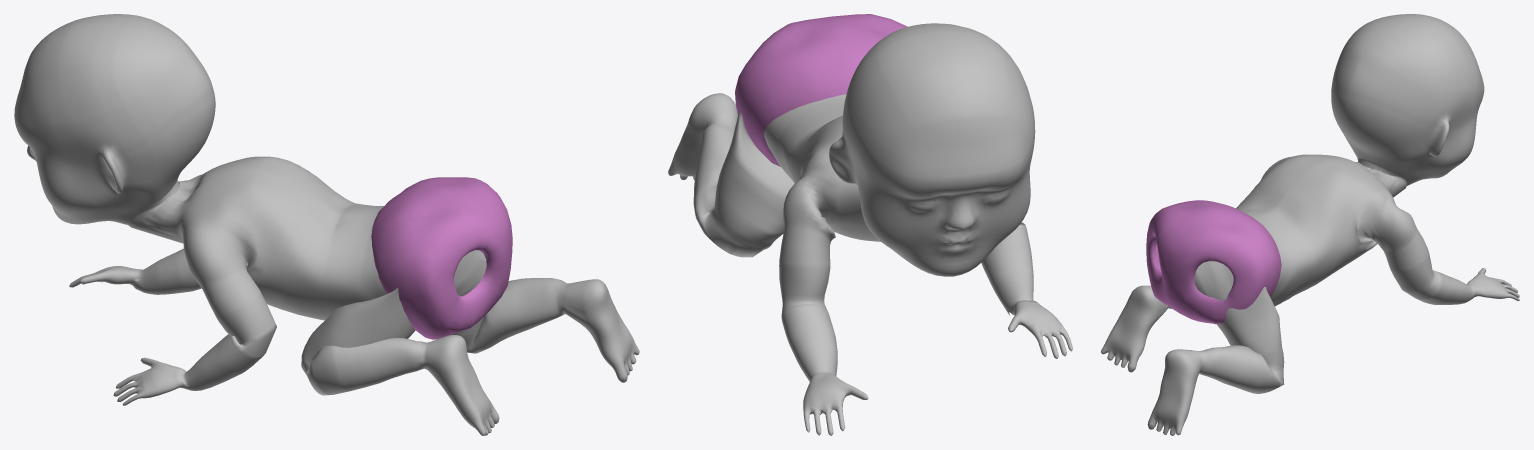
The model's file is giant3.fbx.
3 renders of one model, left to right at view 1: azimuth 30°, elevation 25°; view 2: azimuth 150°, elevation 25°; view 3: azimuth 270°, elevation 25°, orthographic. The views are drawn at different scales.
Visible parts, largest first — view 1: giant3; view 2: giant3; view 3: giant3.
Boxes of the visible parts, <box> form: giant3: <box>14,14,639,435</box>; giant3: <box>668,14,1072,435</box>; giant3: <box>1101,14,1519,435</box>.
Bounding box in the file's own units: 2.07 × 1.39 × 1.97.
